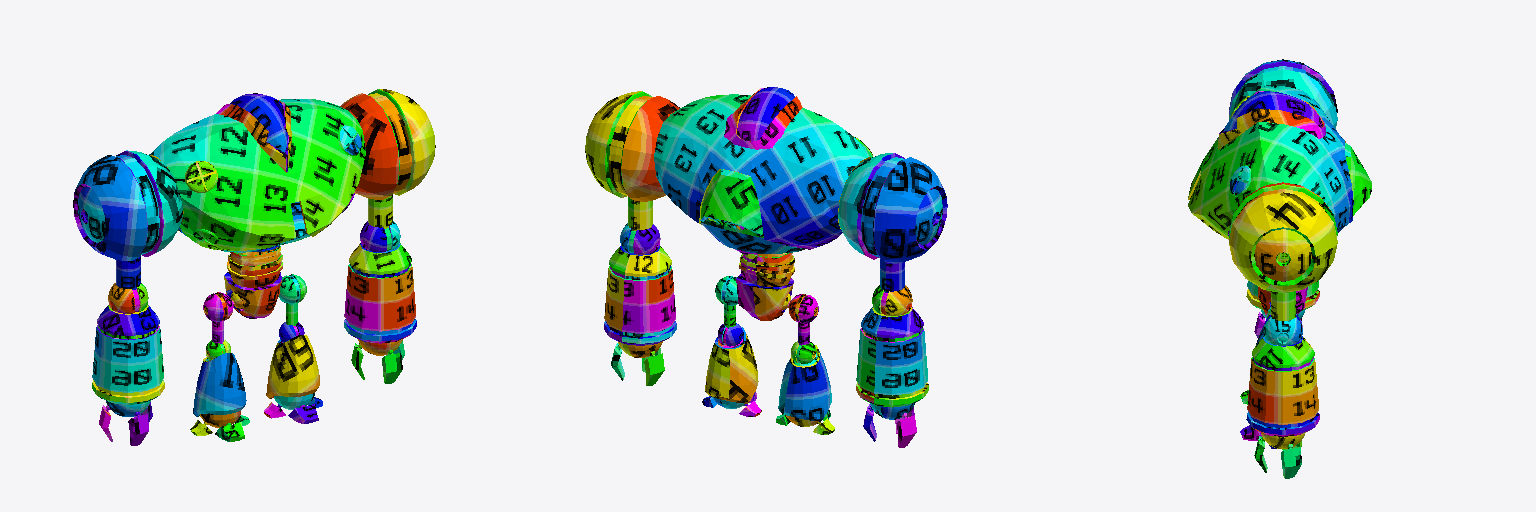
3 views of the same model, side by side, from view 1: azimuth 30°, elevation 25°; view 2: azimuth 150°, elevation 25°; view 3: azimuth 270°, elevation 25° (orthographic).
Visible parts, largest first — view 1: Chest_Geo Torso_Geo_Grp Geometry Robot, L_Shoulder_Geo2, Geometry Robot L_Shoulder_Geo L_Shoulder_Geo Arms_Geo_Grp, L_Elbow_Geo2, Geometry Robot Arms_Geo_Grp L_Elbow_Geo L_Elbow_Geo, Geometry Robot Legs_Geo_Grp L_Shin_Geo L_Shin_Geo, L_Shin_Geo2, Torso_Geo_Grp Geometry Robot Spine_Geo, Torso_Geo_Grp Geometry Robot Pelvis_Geo, L_Femur_Geo2, Geometry Robot Legs_Geo_Grp L_Femur_Geo L_Femur_Geo, Geometry Robot Arms_Geo_Grp L_Finger_01_Geo1 L_Finger_01_Geo1; view 2: Chest_Geo Torso_Geo_Grp Geometry Robot, L_Shoulder_Geo2, Geometry Robot L_Shoulder_Geo L_Shoulder_Geo Arms_Geo_Grp, Geometry Robot Arms_Geo_Grp L_Elbow_Geo L_Elbow_Geo, L_Elbow_Geo2, Geometry Robot Legs_Geo_Grp L_Shin_Geo L_Shin_Geo, L_Shin_Geo2, Torso_Geo_Grp Geometry Robot Spine_Geo, Torso_Geo_Grp Geometry Robot Pelvis_Geo, L_Femur_Geo2, Geometry Robot Legs_Geo_Grp L_Femur_Geo L_Femur_Geo; view 3: Chest_Geo Torso_Geo_Grp Geometry Robot, Geometry Robot L_Shoulder_Geo L_Shoulder_Geo Arms_Geo_Grp, Geometry Robot Arms_Geo_Grp L_Elbow_Geo L_Elbow_Geo, L_Shoulder_Geo2, L_Elbow_Geo2, Geometry Robot Arms_Geo_Grp L_Finger_01_Geo2 L_Finger_01_Geo2.
Part boxes in pixels (bbox=[...]): Chest_Geo Torso_Geo_Grp Geometry Robot: bbox=[149, 93, 365, 252]; L_Shoulder_Geo2: bbox=[73, 150, 182, 289]; Geometry Robot L_Shoulder_Geo L_Shoulder_Geo Arms_Geo_Grp: bbox=[340, 89, 435, 228]; L_Elbow_Geo2: bbox=[92, 283, 164, 404]; Geometry Robot Arms_Geo_Grp L_Elbow_Geo L_Elbow_Geo: bbox=[344, 221, 416, 343]; Geometry Robot Legs_Geo_Grp L_Shin_Geo L_Shin_Geo: bbox=[266, 322, 319, 398]; L_Shin_Geo2: bbox=[193, 340, 246, 416]; Torso_Geo_Grp Geometry Robot Spine_Geo: bbox=[227, 246, 282, 287]; Torso_Geo_Grp Geometry Robot Pelvis_Geo: bbox=[224, 272, 281, 318]; L_Femur_Geo2: bbox=[203, 292, 233, 343]; Geometry Robot Legs_Geo_Grp L_Femur_Geo L_Femur_Geo: bbox=[279, 274, 306, 325]; Geometry Robot Arms_Geo_Grp L_Finger_01_Geo1 L_Finger_01_Geo1: bbox=[382, 350, 402, 383]; Chest_Geo Torso_Geo_Grp Geometry Robot: bbox=[654, 87, 872, 254]; L_Shoulder_Geo2: bbox=[838, 153, 947, 292]; Geometry Robot L_Shoulder_Geo L_Shoulder_Geo Arms_Geo_Grp: bbox=[585, 91, 679, 230]; Geometry Robot Arms_Geo_Grp L_Elbow_Geo L_Elbow_Geo: bbox=[604, 223, 676, 345]; L_Elbow_Geo2: bbox=[856, 285, 928, 407]; Geometry Robot Legs_Geo_Grp L_Shin_Geo L_Shin_Geo: bbox=[705, 323, 758, 403]; L_Shin_Geo2: bbox=[778, 341, 831, 421]; Torso_Geo_Grp Geometry Robot Spine_Geo: bbox=[739, 253, 794, 286]; Torso_Geo_Grp Geometry Robot Pelvis_Geo: bbox=[736, 274, 793, 320]; L_Femur_Geo2: bbox=[789, 294, 818, 345]; Geometry Robot Legs_Geo_Grp L_Femur_Geo L_Femur_Geo: bbox=[715, 276, 737, 327]; Chest_Geo Torso_Geo_Grp Geometry Robot: bbox=[1188, 86, 1371, 239]; Geometry Robot L_Shoulder_Geo L_Shoulder_Geo Arms_Geo_Grp: bbox=[1229, 182, 1337, 320]; Geometry Robot Arms_Geo_Grp L_Elbow_Geo L_Elbow_Geo: bbox=[1246, 315, 1319, 436]; L_Shoulder_Geo2: bbox=[1229, 59, 1337, 128]; L_Elbow_Geo2: bbox=[1246, 280, 1319, 310]; Geometry Robot Arms_Geo_Grp L_Finger_01_Geo2 L_Finger_01_Geo2: bbox=[1281, 444, 1301, 478].
Bounding box in the file's own units: 268 × 245 × 126.
2 materials, 1 textured.